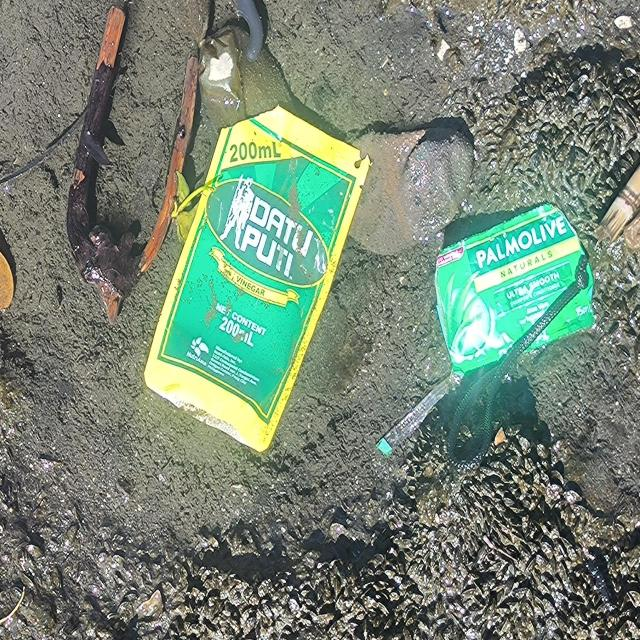plastic_waste: (144, 104, 374, 455), (435, 202, 598, 376)
